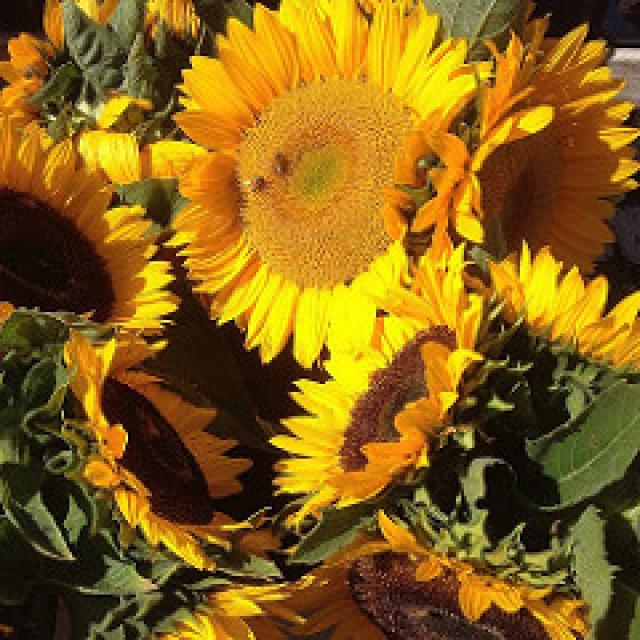sunflower: (174, 0, 508, 373), (383, 0, 636, 328), (44, 318, 257, 582), (271, 276, 489, 513), (0, 107, 184, 370), (244, 514, 596, 640), (0, 0, 213, 154)
